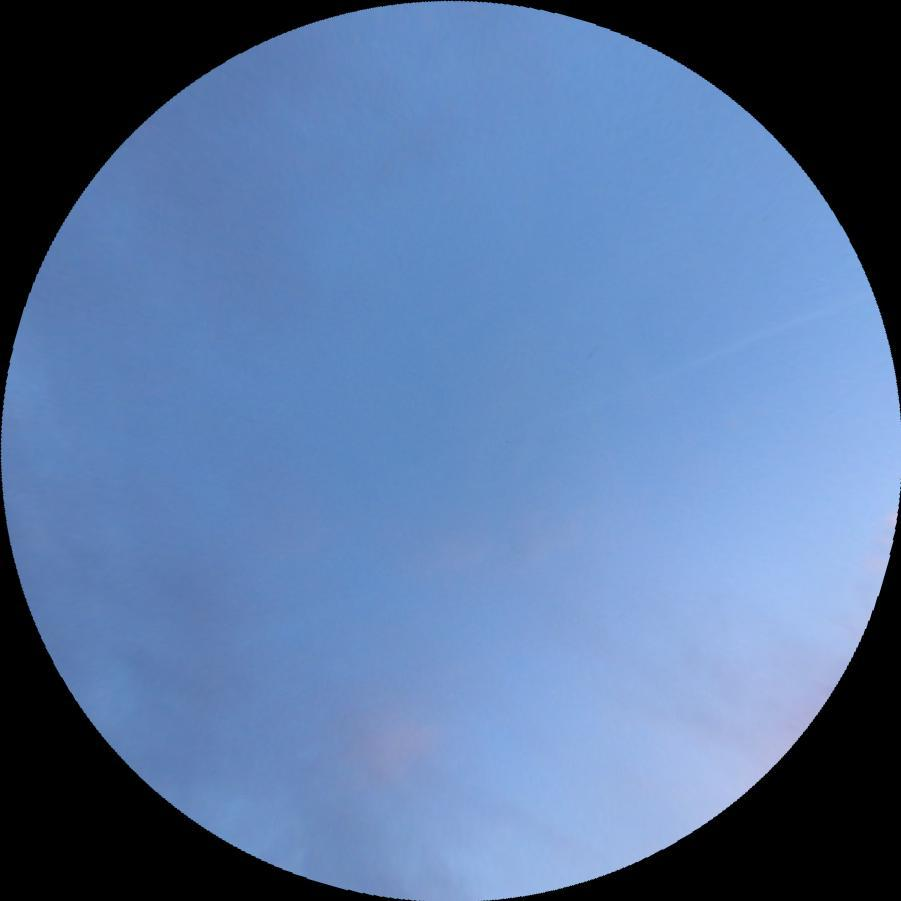contrail old: (416, 289, 873, 466)
